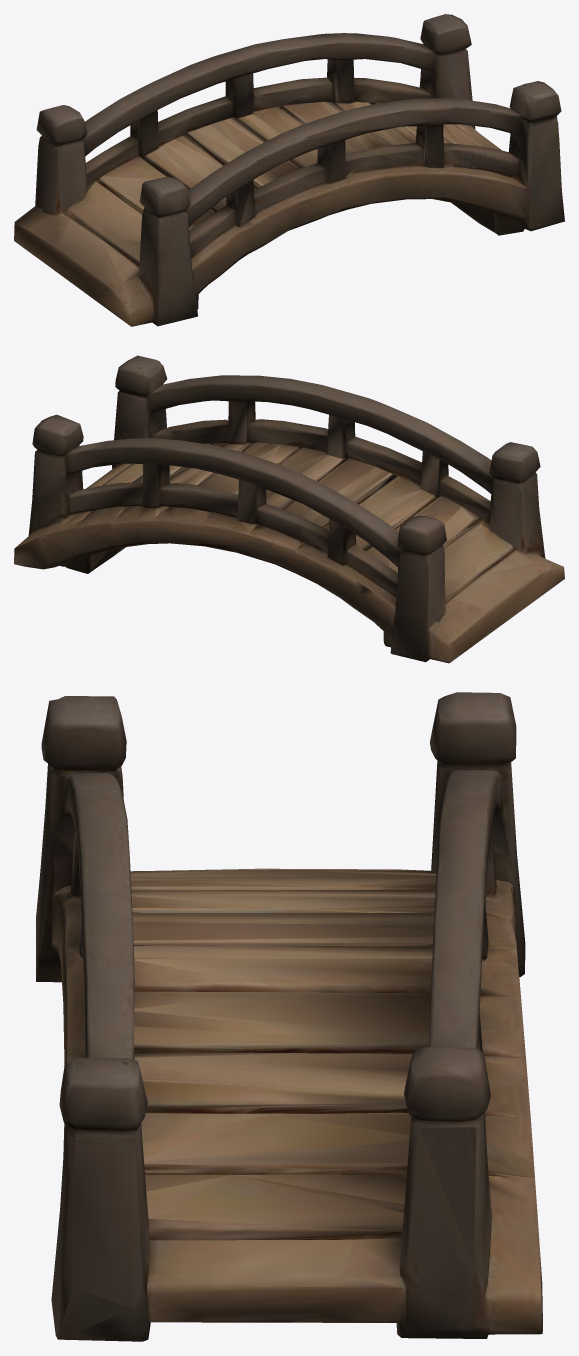
The model's file is bridge.glb.
3 views of the same model, one above another, from view 1: azimuth 30°, elevation 25°; view 2: azimuth 150°, elevation 25°; view 3: azimuth 270°, elevation 25° (orthographic). The views are drawn at different scales.
Parts seen in each view (by area): view 1: tripo_node_b43d85f8-c371-45b7-94d7-d504005409b1; view 2: tripo_node_b43d85f8-c371-45b7-94d7-d504005409b1; view 3: tripo_node_b43d85f8-c371-45b7-94d7-d504005409b1.
Part boxes in pixels (box(x1,y1,x2,y2)): tripo_node_b43d85f8-c371-45b7-94d7-d504005409b1: box(14, 14, 564, 326); tripo_node_b43d85f8-c371-45b7-94d7-d504005409b1: box(14, 355, 564, 663); tripo_node_b43d85f8-c371-45b7-94d7-d504005409b1: box(36, 692, 542, 1341).
Bounding box in the file's own units: 0.9782 × 0.3212 × 0.4974.
Materials: 1 (1 with a texture image).
